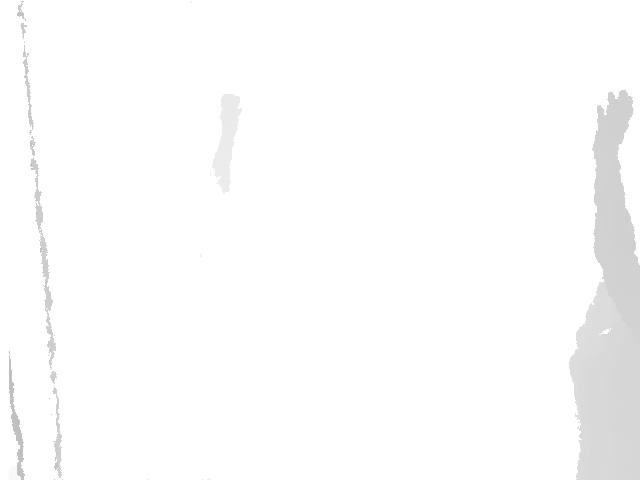hand: (592, 90, 634, 152)
person: (567, 89, 640, 480)
